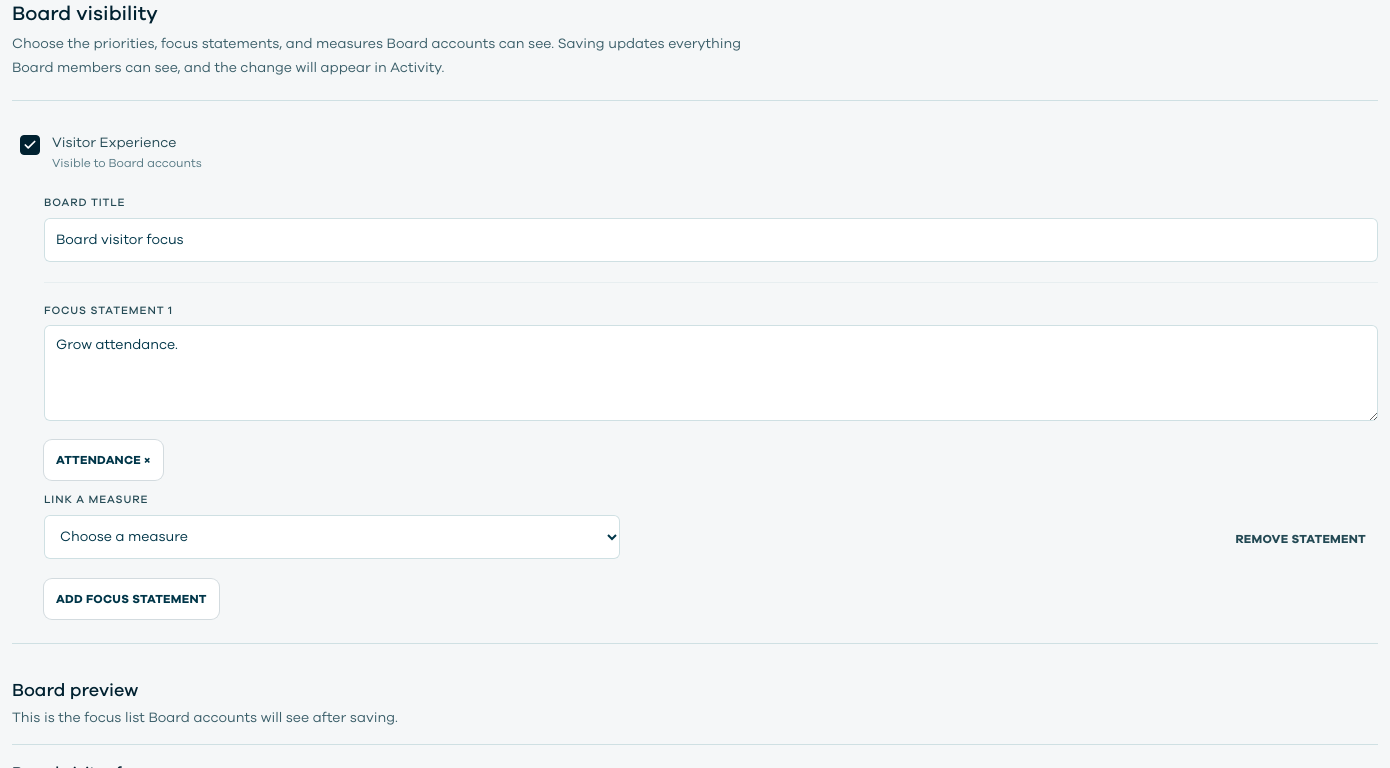
it: BoardReportingEditorClient › rejects an empty focus statement without sending a request
Clear the text box labelled "Focus statement 1": (711, 373) [44,325,1378,421]
(page scrolled)
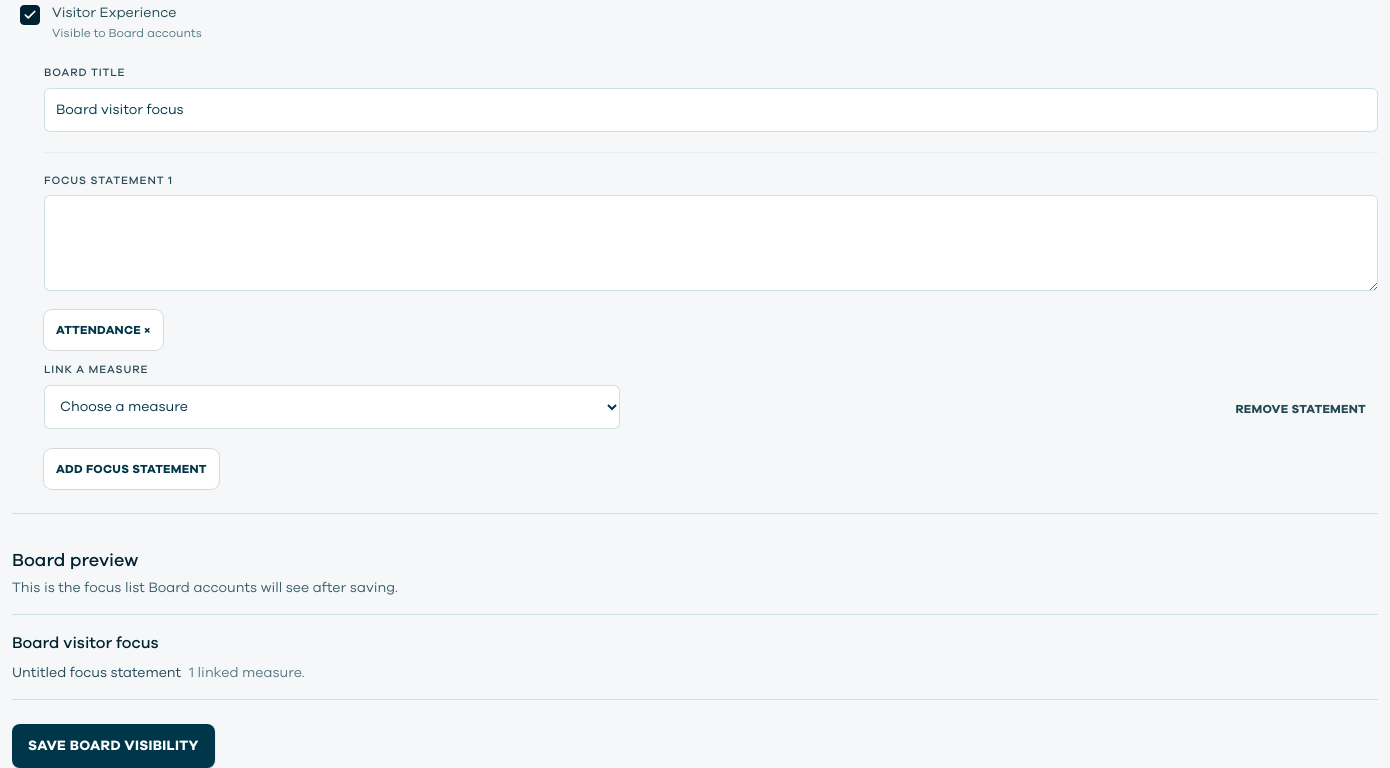
Click the button "Save Board visibility": (113, 746) [12,724,215,767]
(page scrolled)
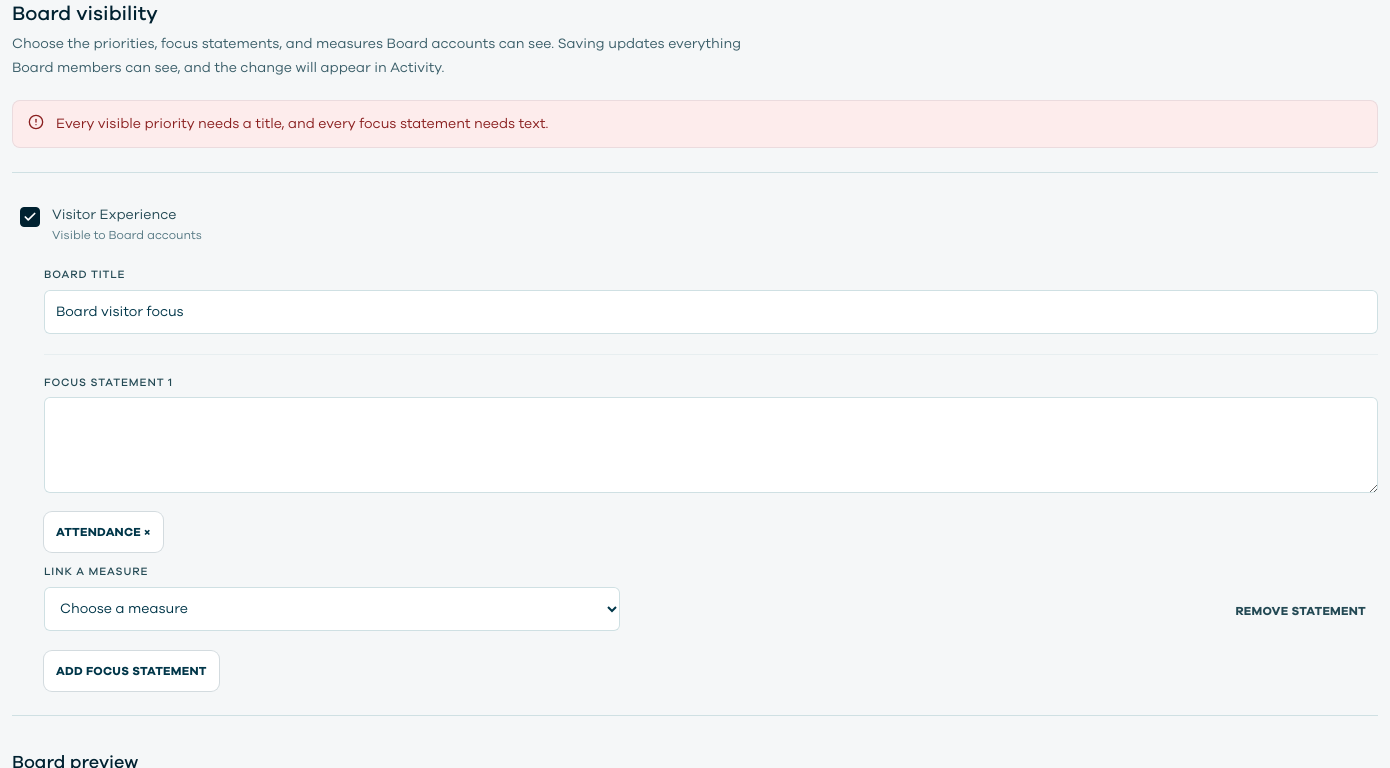
Expected: the text "Every visible priority needs a title, and every focus statement needs text." is shown, [56,114,548,133]
